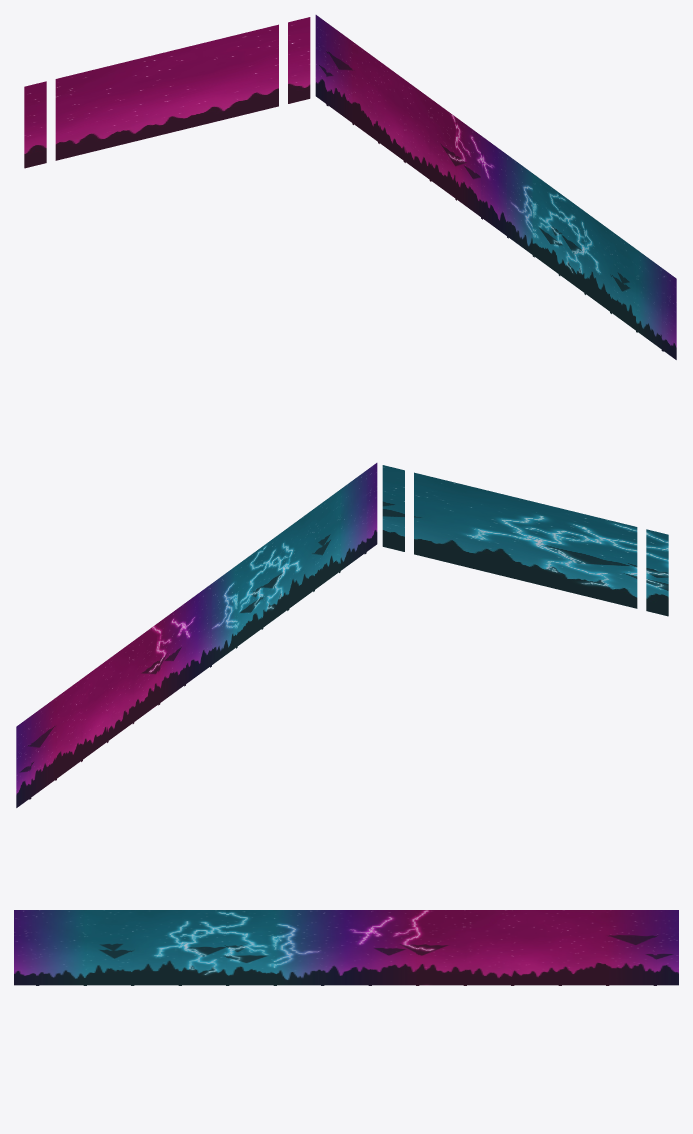
File: ctf_sky_v52.glb
3 views of the same model, one above another, from view 1: azimuth 30°, elevation 25°; view 2: azimuth 150°, elevation 25°; view 3: azimuth 270°, elevation 25° (orthographic). The views are drawn at different scales.
Parts seen in each view (by area): view 1: skin; view 2: skin; view 3: skin.
Boxes of the visible parts, x1=… form: skin: x1=24, y1=15, x2=676, y2=359; skin: x1=16, y1=463, x2=668, y2=807; skin: x1=14, y1=910, x2=678, y2=985.
Bounding box in the file's own units: 136 × 35 × 280.
Materials: 2 (2 with a texture image).
